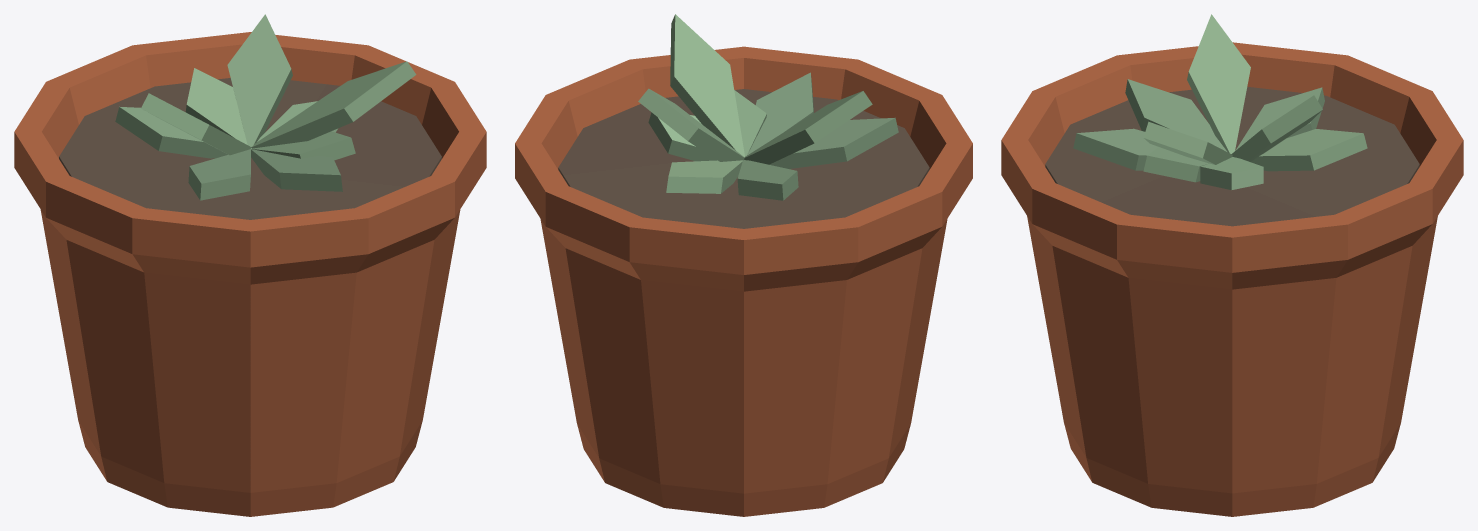
Rendered from new-retusa.glb.
3 views of the same model, side by side, from view 1: azimuth 30°, elevation 25°; view 2: azimuth 150°, elevation 25°; view 3: azimuth 270°, elevation 25° (orthographic). The views are drawn at different scales.
Visible parts, largest first — view 1: new-retusa/review-terra-vessel, new-retusa/review-rooted-soil, new-retusa/leaf-007, new-retusa/leaf-009, new-retusa/leaf-006, new-retusa/leaf-002, new-retusa/leaf-005, new-retusa/leaf-003, new-retusa/leaf-008, new-retusa/leaf-001; view 2: new-retusa/review-terra-vessel, new-retusa/review-rooted-soil, new-retusa/leaf-009, new-retusa/leaf-003, new-retusa/leaf-008, new-retusa/leaf-006, new-retusa/leaf-007, new-retusa/leaf-002, new-retusa/leaf-005, new-retusa/leaf-004, new-retusa/leaf-001; view 3: new-retusa/review-terra-vessel, new-retusa/review-rooted-soil, new-retusa/leaf-008, new-retusa/leaf-002, new-retusa/leaf-003, new-retusa/leaf-006, new-retusa/leaf-007, new-retusa/leaf-009, new-retusa/leaf-004, new-retusa/leaf-005, new-retusa/leaf-001.
Part boxes in pixels (x1=…): new-retusa/review-terra-vessel: x1=14, y1=32, x2=486, y2=516; new-retusa/review-rooted-soil: x1=59, y1=78, x2=441, y2=219; new-retusa/leaf-007: x1=227, y1=14, x2=292, y2=148; new-retusa/leaf-009: x1=251, y1=61, x2=416, y2=148; new-retusa/leaf-006: x1=251, y1=149, x2=342, y2=191; new-retusa/leaf-002: x1=185, y1=68, x2=247, y2=144; new-retusa/leaf-005: x1=115, y1=106, x2=227, y2=158; new-retusa/leaf-003: x1=188, y1=149, x2=250, y2=200; new-retusa/leaf-008: x1=141, y1=93, x2=251, y2=155; new-retusa/leaf-001: x1=252, y1=131, x2=355, y2=160; new-retusa/review-terra-vessel: x1=515, y1=46, x2=972, y2=516; new-retusa/review-rooted-soil: x1=558, y1=89, x2=929, y2=228; new-retusa/leaf-009: x1=670, y1=14, x2=744, y2=156; new-retusa/leaf-003: x1=769, y1=117, x2=898, y2=168; new-retusa/leaf-008: x1=744, y1=91, x2=872, y2=164; new-retusa/leaf-006: x1=747, y1=72, x2=813, y2=155; new-retusa/leaf-007: x1=638, y1=88, x2=744, y2=161; new-retusa/leaf-002: x1=666, y1=160, x2=742, y2=193; new-retusa/leaf-005: x1=737, y1=160, x2=798, y2=200; new-retusa/leaf-004: x1=648, y1=112, x2=716, y2=161; new-retusa/leaf-001: x1=734, y1=90, x2=766, y2=156; new-retusa/review-terra-vessel: x1=1001, y1=42, x2=1463, y2=516; new-retusa/review-rooted-soil: x1=1045, y1=86, x2=1419, y2=226; new-retusa/leaf-008: x1=1187, y1=14, x2=1250, y2=153; new-retusa/leaf-002: x1=1251, y1=129, x2=1367, y2=171; new-retusa/leaf-003: x1=1125, y1=79, x2=1227, y2=151; new-retusa/leaf-006: x1=1073, y1=128, x2=1158, y2=170; new-retusa/leaf-007: x1=1231, y1=95, x2=1322, y2=161; new-retusa/leaf-009: x1=1143, y1=121, x2=1232, y2=164; new-retusa/leaf-004: x1=1200, y1=157, x2=1263, y2=190; new-retusa/leaf-005: x1=1235, y1=87, x2=1324, y2=150; new-retusa/leaf-001: x1=1143, y1=147, x2=1208, y2=182.
Bounding box in the file's own units: 0.19 × 0.173 × 0.19.
Materials: 3 (3 with a texture image).
